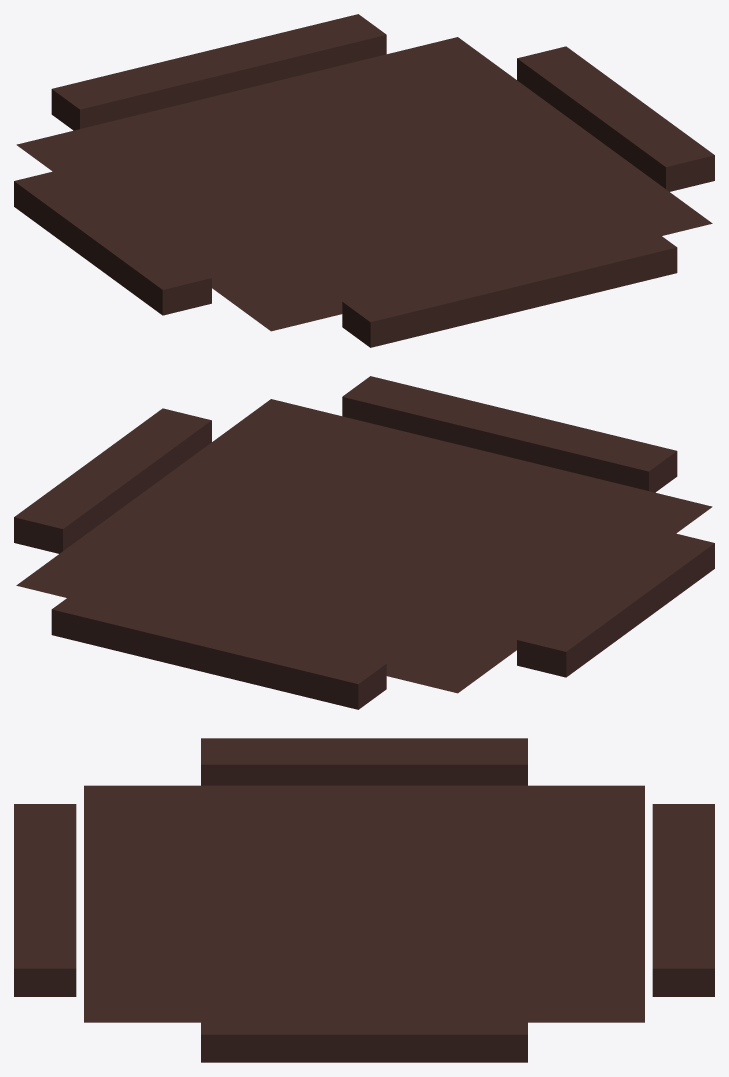
The model's file is lava_plane.glb.
3 renders of one model, top to bottom at view 1: azimuth 30°, elevation 25°; view 2: azimuth 150°, elevation 25°; view 3: azimuth 270°, elevation 25°, orthographic. The views are drawn at different scales.
Visible parts, largest first — view 1: lava_plane; view 2: lava_plane; view 3: lava_plane.
Part boxes in pixels (x1=…): lava_plane: x1=14, y1=14, x2=714, y2=347; lava_plane: x1=14, y1=376, x2=714, y2=709; lava_plane: x1=14, y1=738, x2=714, y2=1062.
Size of the model in its own units: 1.8 by 0.08 by 1.8.
